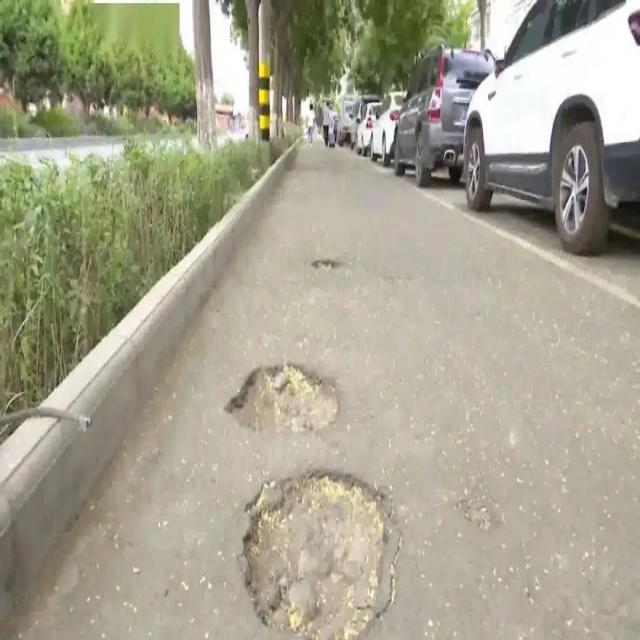Pothole: (231, 461, 408, 637), (230, 360, 338, 434), (308, 250, 341, 277)
